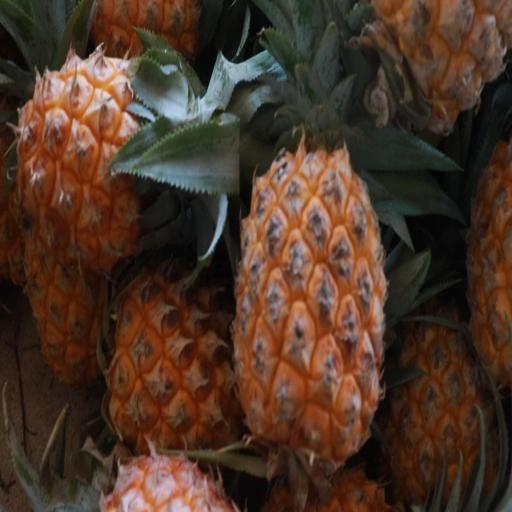Pineapple - v8 v1: (228, 124, 391, 488), (12, 32, 222, 288), (104, 242, 264, 467), (375, 261, 510, 506), (361, 3, 512, 145)
